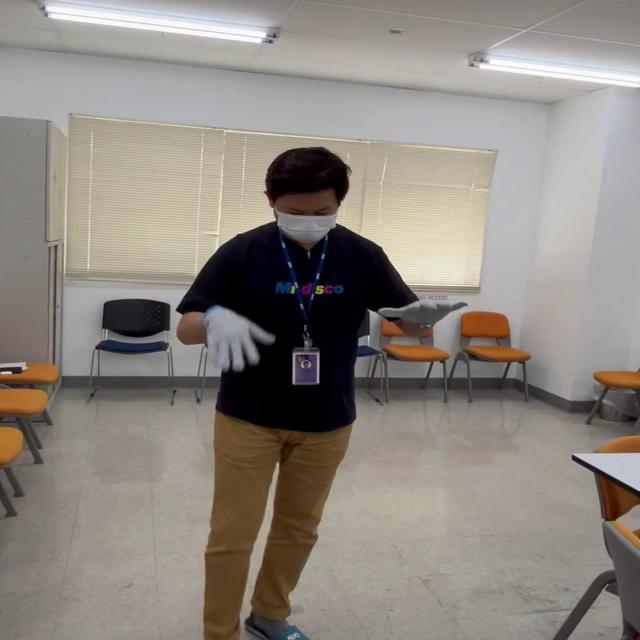gloved_hand: (206, 300, 271, 376), (373, 289, 466, 332)
